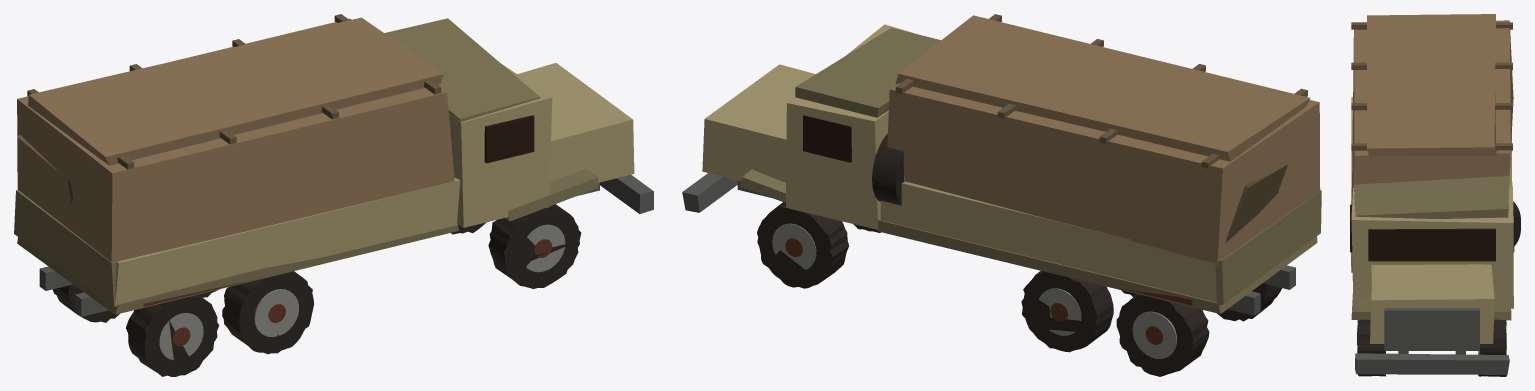
Rendered from army_truck.glb.
3 views of the same model, side by side, from view 1: azimuth 30°, elevation 25°; view 2: azimuth 150°, elevation 25°; view 3: azimuth 270°, elevation 25° (orthographic). The views are drawn at different scales.
Visible parts, largest first — view 1: army_truck; view 2: army_truck; view 3: army_truck.
Part boxes in pixels (left/top/right/bottom): army_truck: left=14, top=14, right=653, bottom=376; army_truck: left=682, top=14, right=1321, bottom=376; army_truck: left=1350, top=14, right=1520, bottom=376.
Size of the model in its own units: 8.13 by 3.31 by 2.68.
